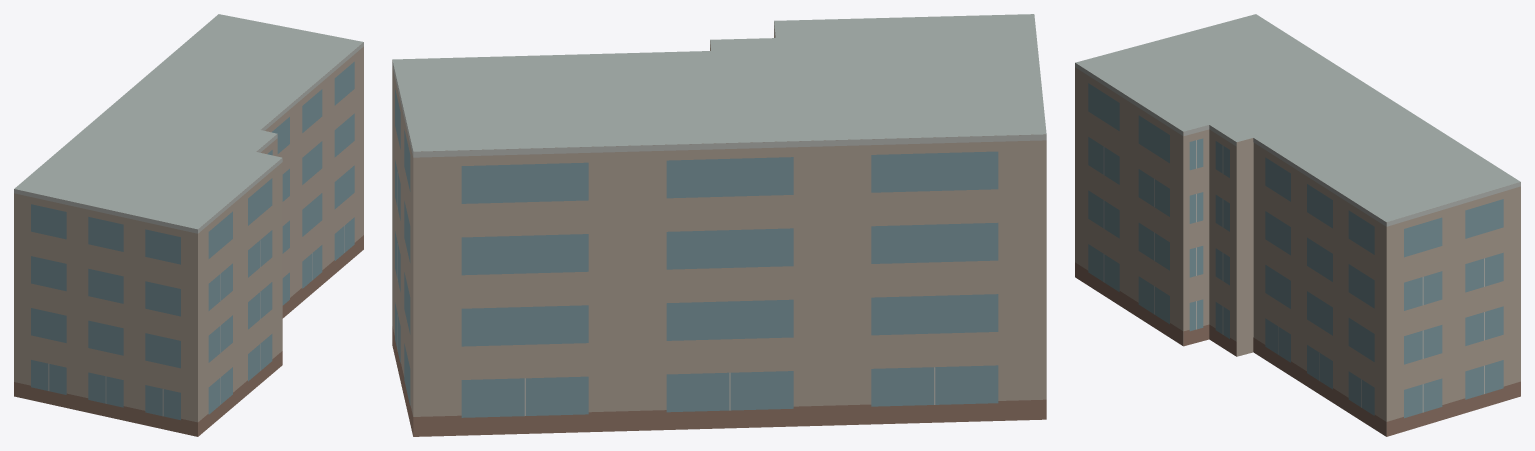
The model's file is survey-upis-33025368.glb.
3 views of the same model, side by side, from view 1: azimuth 30°, elevation 25°; view 2: azimuth 150°, elevation 25°; view 3: azimuth 270°, elevation 25° (orthographic). The views are drawn at different scales.
Visible parts, largest first — view 1: survey-upis-33025368.tmp; view 2: survey-upis-33025368.tmp; view 3: survey-upis-33025368.tmp.
Part boxes in pixels (left/top/right/bottom): survey-upis-33025368.tmp: left=14, top=14, right=363, bottom=436; survey-upis-33025368.tmp: left=392, top=14, right=1046, bottom=436; survey-upis-33025368.tmp: left=1075, top=14, right=1520, bottom=436.
Bounding box in the file's own units: 24.16 × 11.6 × 21.85.
